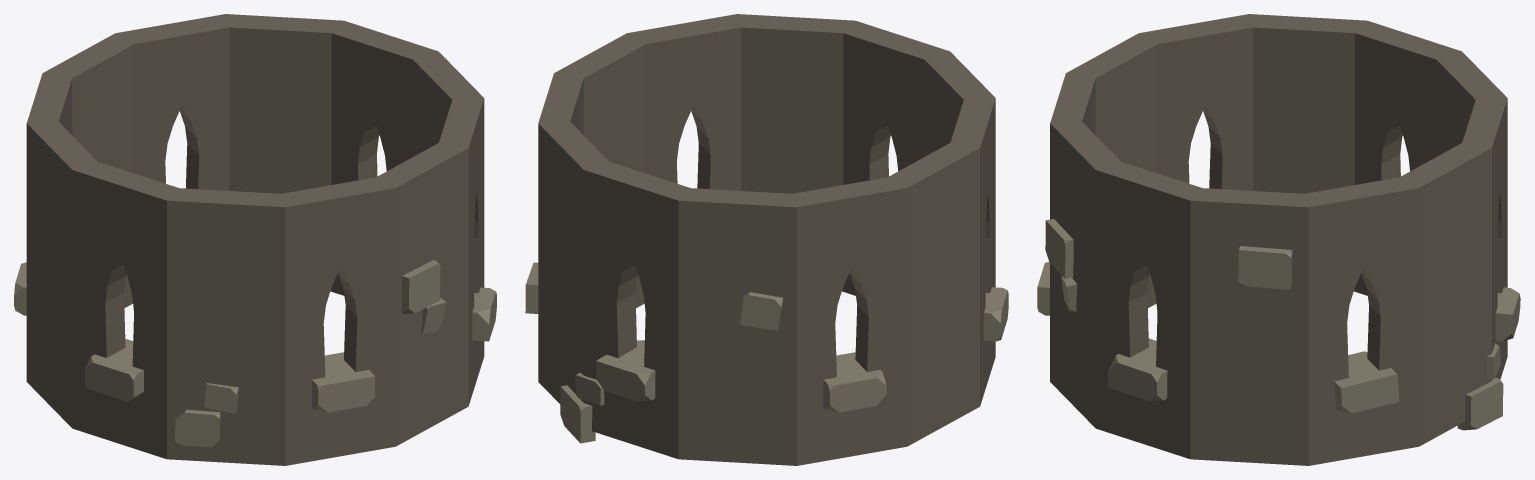
3 renders of one model, left to right at view 1: azimuth 30°, elevation 25°; view 2: azimuth 150°, elevation 25°; view 3: azimuth 270°, elevation 25°, orthographic.
Parts seen in each view (by area): view 1: mff_tower_middle; view 2: mff_tower_middle; view 3: mff_tower_middle.
Boxes of the visible parts, x1=… form: mff_tower_middle: x1=14, y1=14, x2=496, y2=465; mff_tower_middle: x1=525, y1=14, x2=1008, y2=465; mff_tower_middle: x1=1037, y1=14, x2=1520, y2=465.
Size of the model in its own units: 8.23 by 5.2 by 8.47.
Materials: 1 (1 with a texture image).
